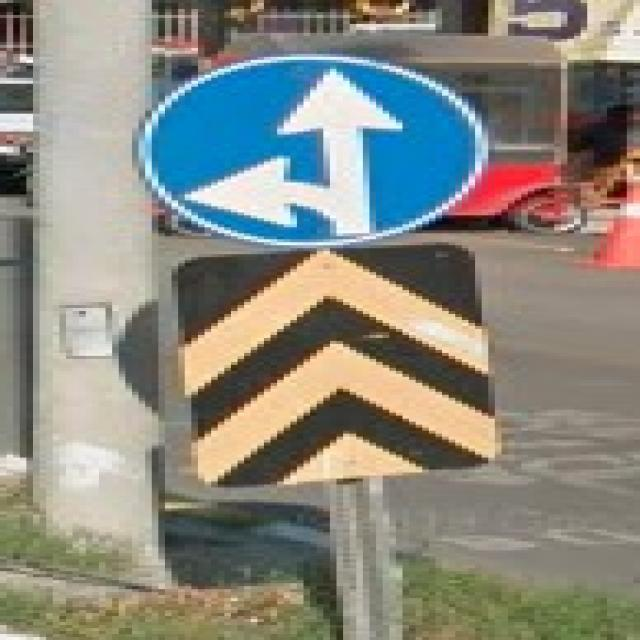Straight or Left: (136, 56, 486, 245)
